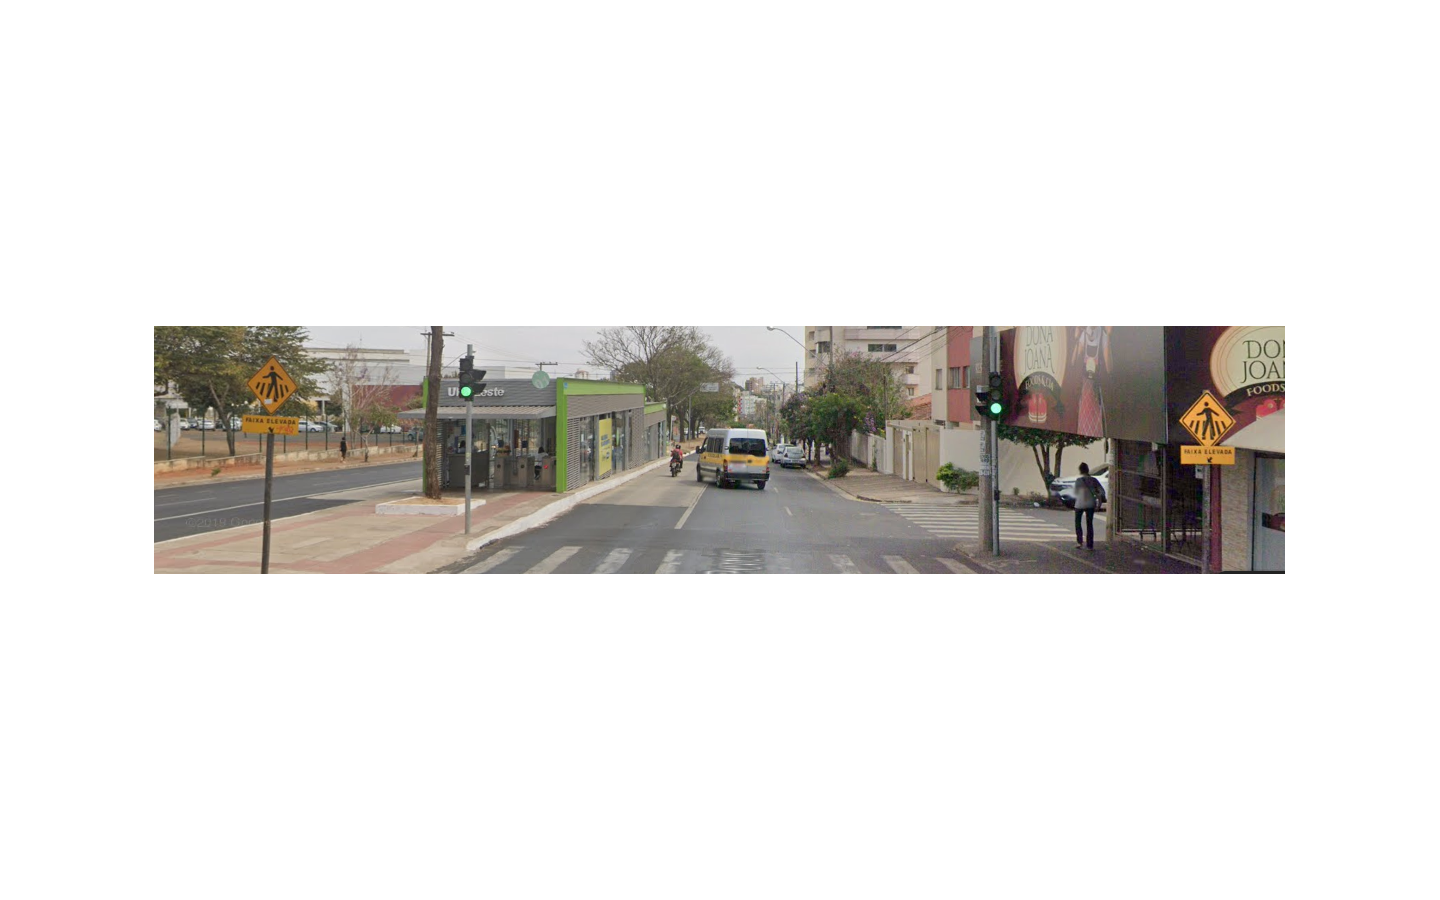telev: (241, 357, 299, 435), (1179, 391, 1236, 465)
